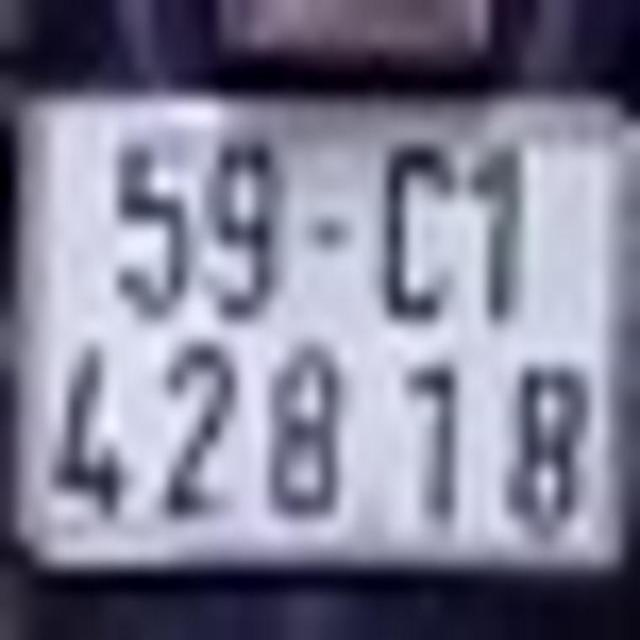1: (398, 345, 469, 536), (462, 143, 532, 326)
2: (162, 338, 236, 520)
4: (51, 332, 133, 535)
5: (114, 131, 192, 328)
8: (509, 348, 591, 550), (266, 339, 346, 520)
9: (200, 133, 276, 324)
C: (377, 140, 458, 326)
